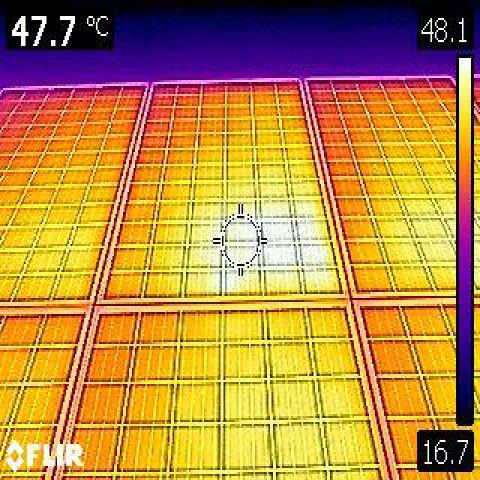fault: (271, 199, 332, 297)
